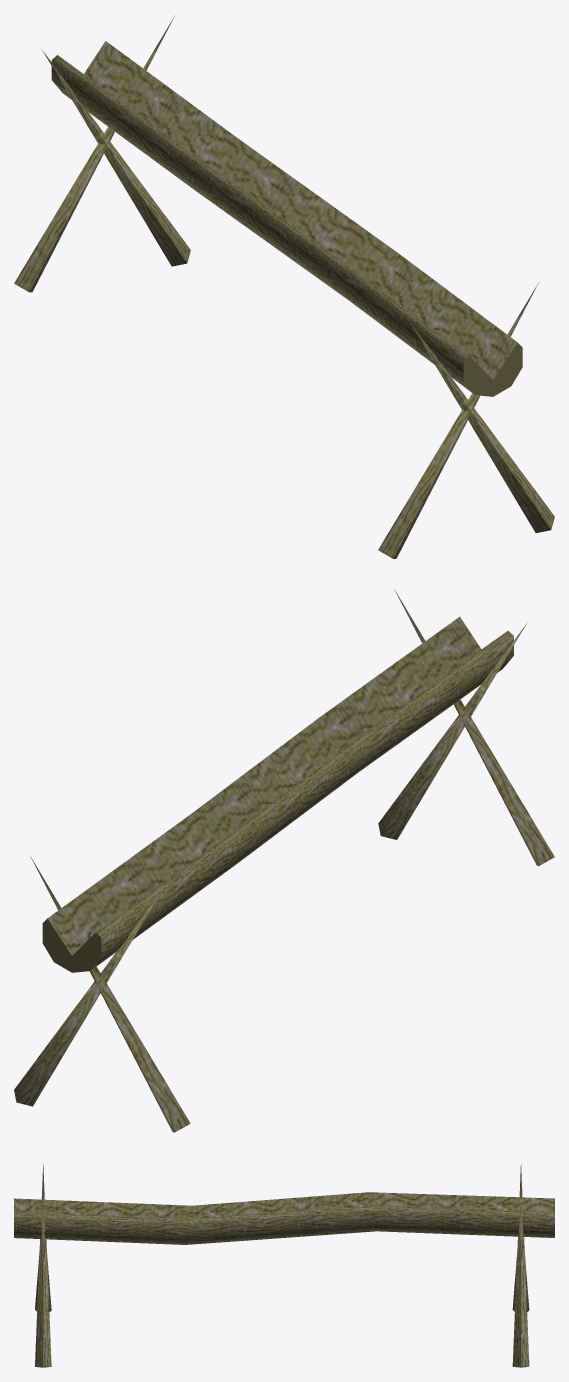
The model's file is waterpipe_empty.obj.
3 renders of one model, top to bottom at view 1: azimuth 30°, elevation 25°; view 2: azimuth 150°, elevation 25°; view 3: azimuth 270°, elevation 25°, orthographic. The views are drawn at different scales.
Parts seen in each view (by area): view 1: Cylinder04, Duplicate02, Box01, Duplicate01; view 2: Cylinder04, Duplicate02, Box01, Duplicate01; view 3: Cylinder04, Duplicate02, Box01, Duplicate01.
Part boxes in pixels (box(x1,y1,x2,y2)): Cylinder04: box(51, 41, 522, 396); Duplicate02: box(378, 281, 554, 558); Box01: box(42, 50, 190, 266); Duplicate01: box(14, 16, 174, 292); Cylinder04: box(42, 616, 513, 972); Duplicate02: box(378, 590, 554, 865); Box01: box(14, 889, 162, 1106); Duplicate01: box(30, 856, 190, 1132); Cylinder04: box(14, 1192, 554, 1244); Duplicate02: box(35, 1164, 51, 1367); Box01: box(512, 1164, 529, 1367); Duplicate01: box(512, 1205, 529, 1311).
Size of the model in its own units: 14.3 by 19.47 by 57.75.
